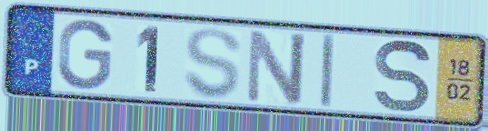1: (136, 24, 160, 94)
G: (54, 17, 115, 93)
I: (318, 32, 338, 111)
N: (242, 26, 309, 107)
S: (372, 36, 434, 116), (181, 26, 244, 102)
